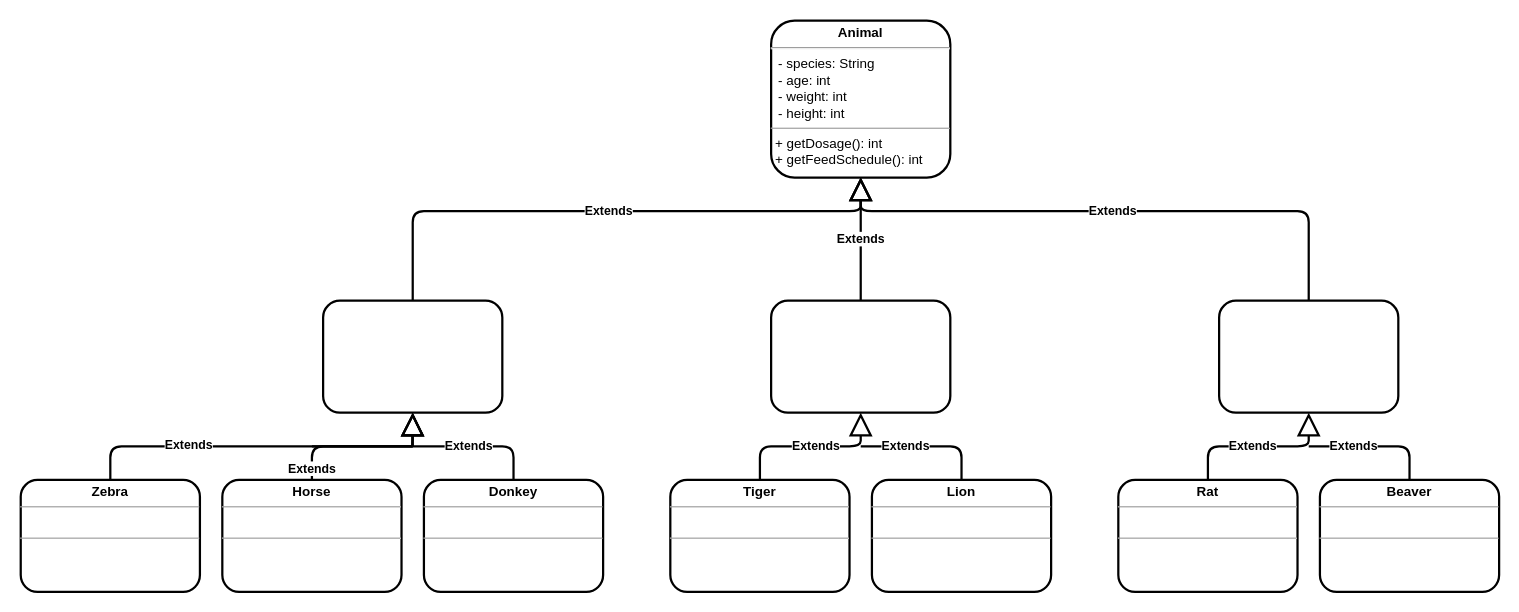
Image size: 1519x612. Some labels were removed from this diagram. Here are the shapes that lost their labels. From the top down, the centre of each, then its label:
At (x=412, y=356): "Equidae + getDosage(): int + getSchedule(): int".
At (x=860, y=356): "Felines + getDosage(): int + getSchedule(): int".
At (x=1308, y=356): "Rodent + getDosage(): int + getSchedule(): int".
